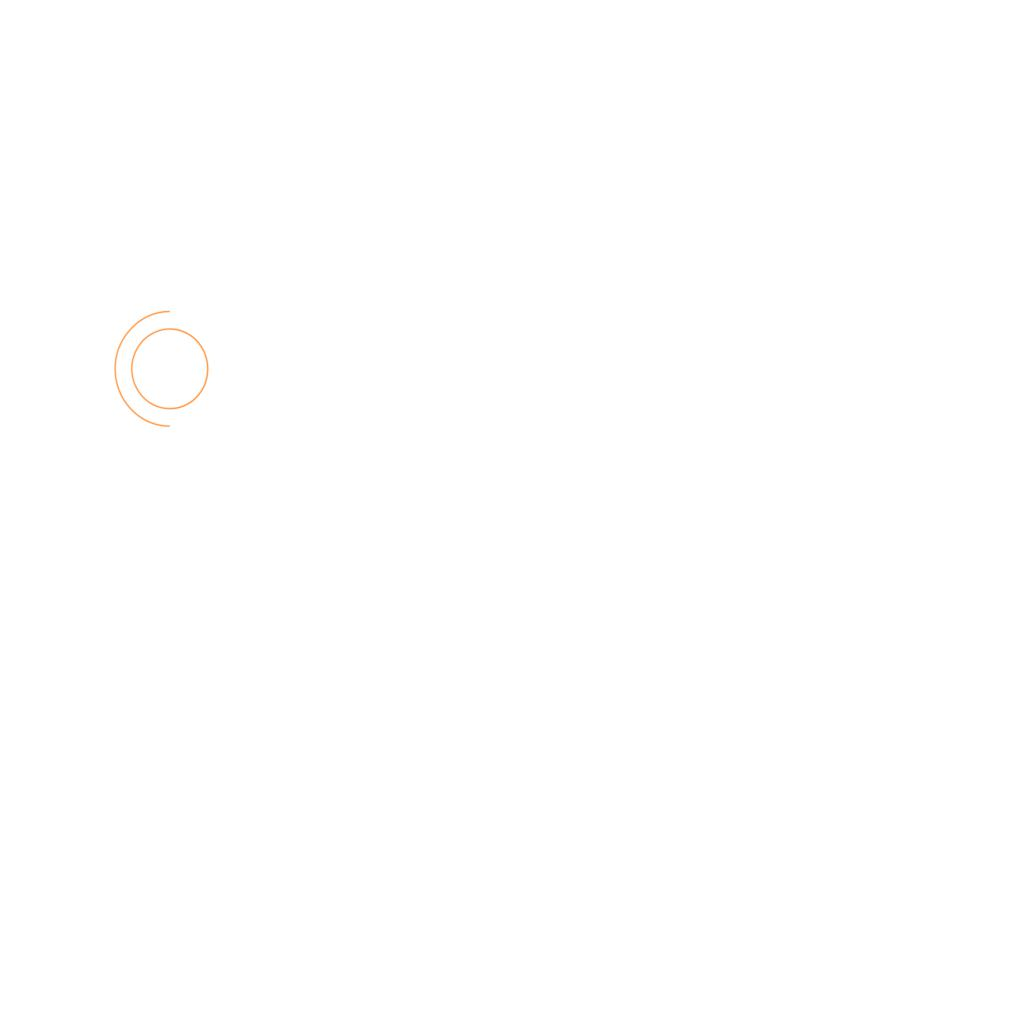Scheinwerfer_fuer_Alarmbeleuchtung: (109, 306, 221, 438)
